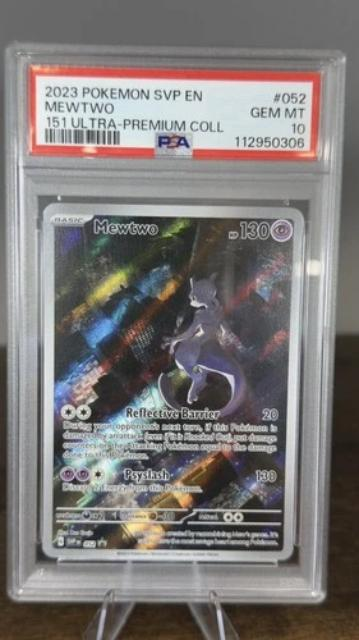Card: (38, 194, 306, 564)
Name: (88, 212, 160, 239)
